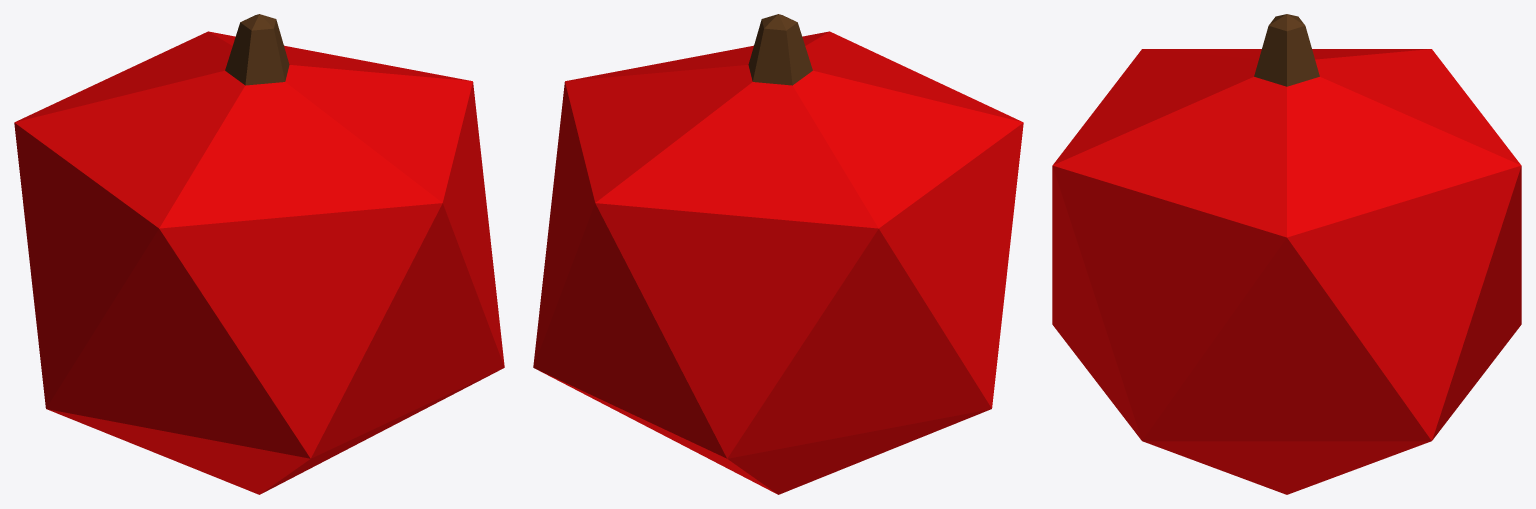
Rendered from manzanaRoja.fbx.
The picture shows the model from 3 angles, left to right: view 1: azimuth 30°, elevation 25°; view 2: azimuth 150°, elevation 25°; view 3: azimuth 270°, elevation 25°; orthographic projection.
Visible parts, largest first — view 1: ManzanaRoja; view 2: ManzanaRoja; view 3: ManzanaRoja.
Part boxes in pixels (bbox=[...]): ManzanaRoja: bbox=[14, 14, 504, 494]; ManzanaRoja: bbox=[533, 14, 1023, 494]; ManzanaRoja: bbox=[1052, 14, 1521, 494].
Bounding box in the file's own units: 5.56 × 5.99 × 5.29.
